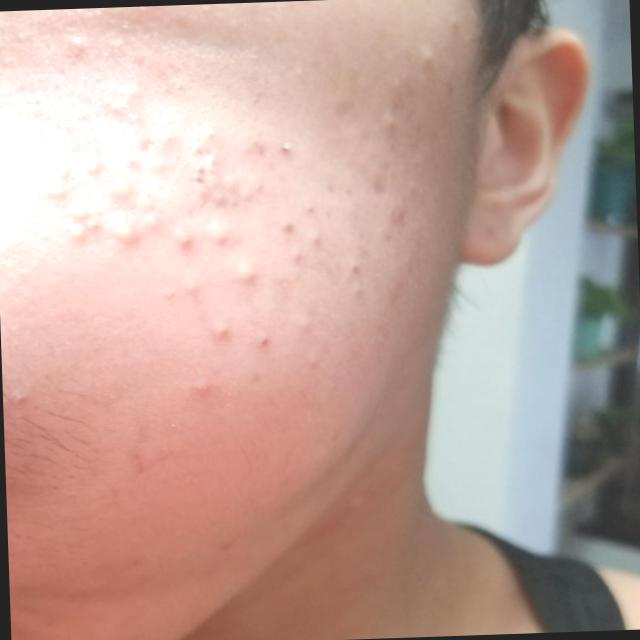fungal: (29, 46, 428, 429)
